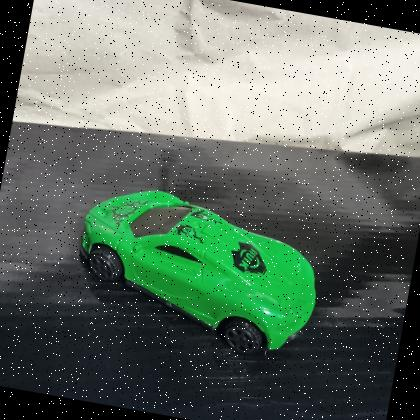Car: (60, 173, 340, 372)
